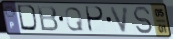B: (36, 5, 60, 33)
D: (16, 4, 41, 34)
P: (85, 5, 106, 34)
Q: (64, 6, 86, 33)
S: (132, 6, 155, 35)
V: (109, 5, 131, 34)
